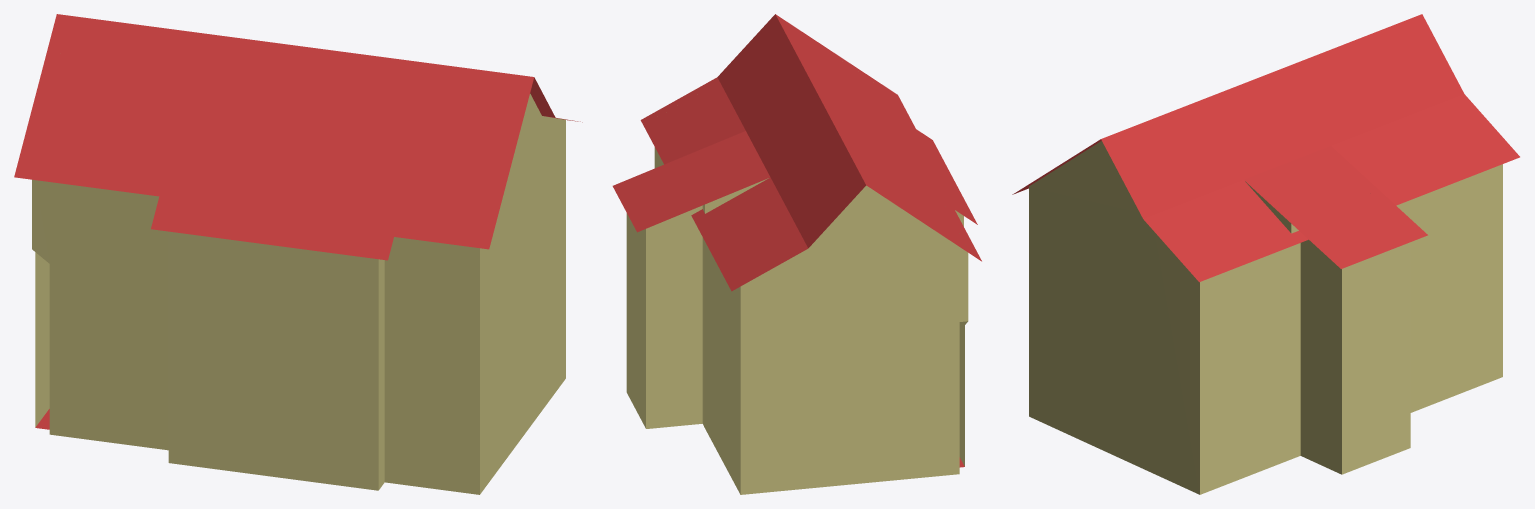
3 views of the same model, side by side, from view 1: azimuth 30°, elevation 25°; view 2: azimuth 150°, elevation 25°; view 3: azimuth 270°, elevation 25° (orthographic). The views are drawn at different scales.
Size of the model in its own units: 19.86 by 20.44 by 14.1.
